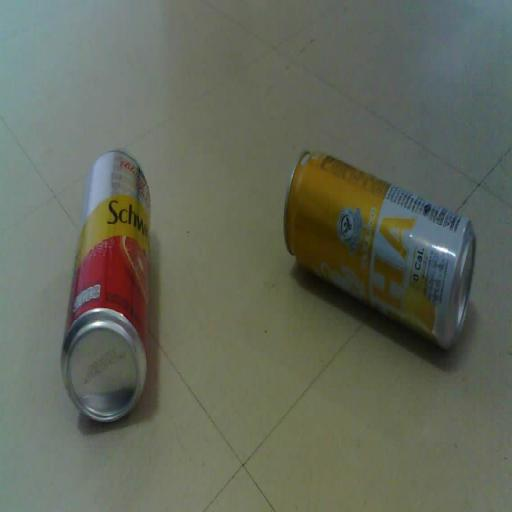canned: (272, 134, 485, 375), (48, 140, 173, 435)
